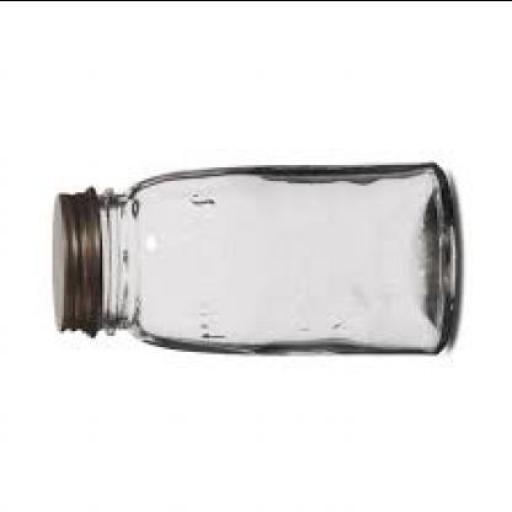glass: (98, 162, 457, 357)
metal: (48, 189, 97, 337)
